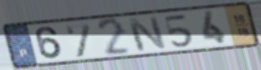2: (96, 17, 136, 59)
4: (201, 9, 228, 46)
5: (162, 12, 194, 49)
6: (34, 25, 64, 61)
7: (64, 21, 93, 59)
N: (126, 15, 169, 53)
